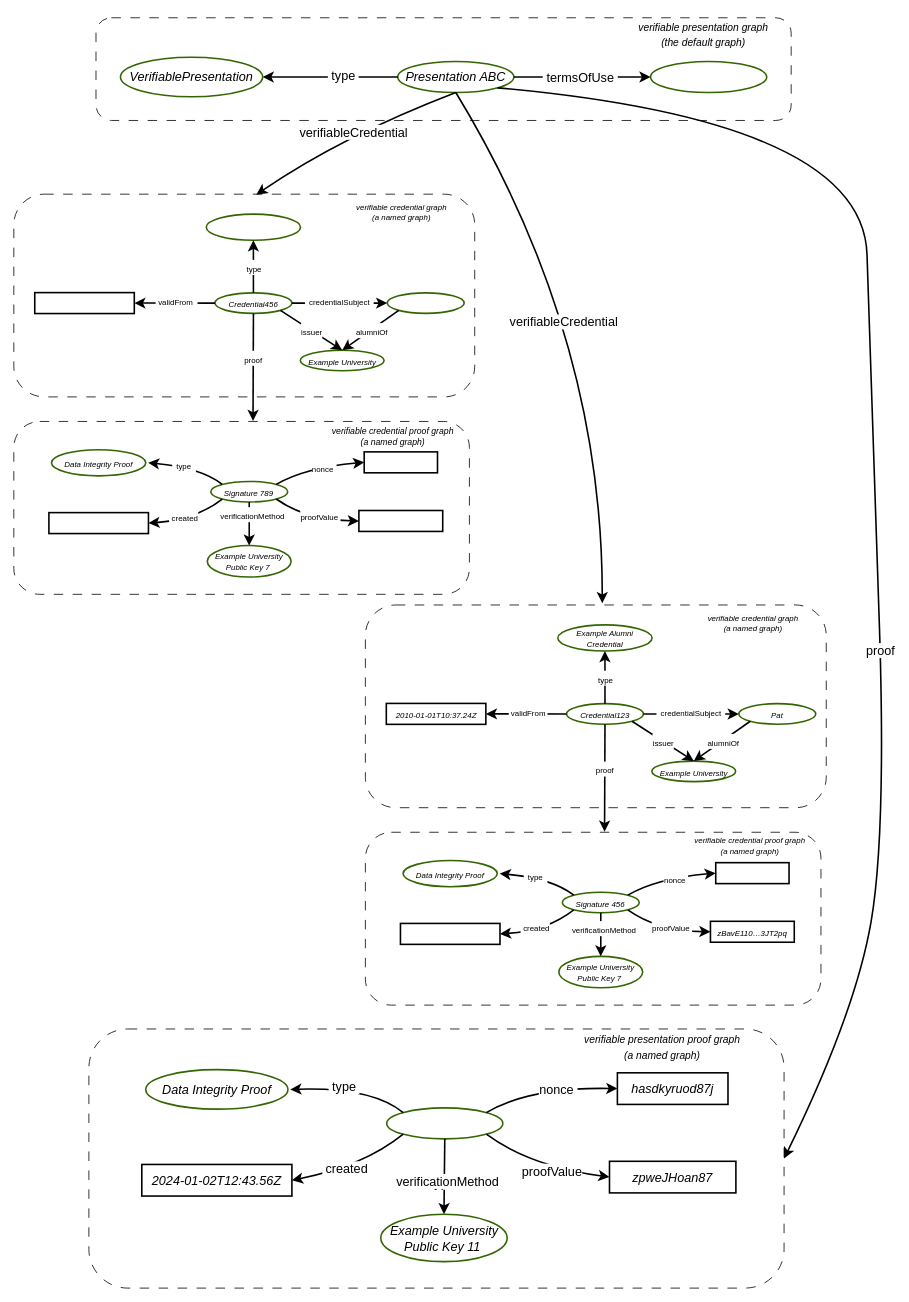
The diagram is 909 pixels wide and 1302 high, and some of its shapes have lost their labels. The box of each missing label's shape, as (x1, y1, x2, y2) in pixels:
2022-06-18T21:19.10Z: (399, 922, 500, 945)
2024-01-01T10:37.24Z: (34, 291, 135, 314)
2024-01-01T10:50.10Z: (48, 511, 149, 534)
34dj239dsj328: (715, 861, 789, 884)
45jhei78j0ei: (363, 451, 438, 473)
DoNotArchive: (649, 60, 767, 93)
Example Alumni Credent ial: (205, 213, 301, 241)
Signature 8920: (386, 1107, 503, 1139)
Ted: (386, 292, 465, 314)
zHbNml98dnao: (358, 509, 443, 532)
